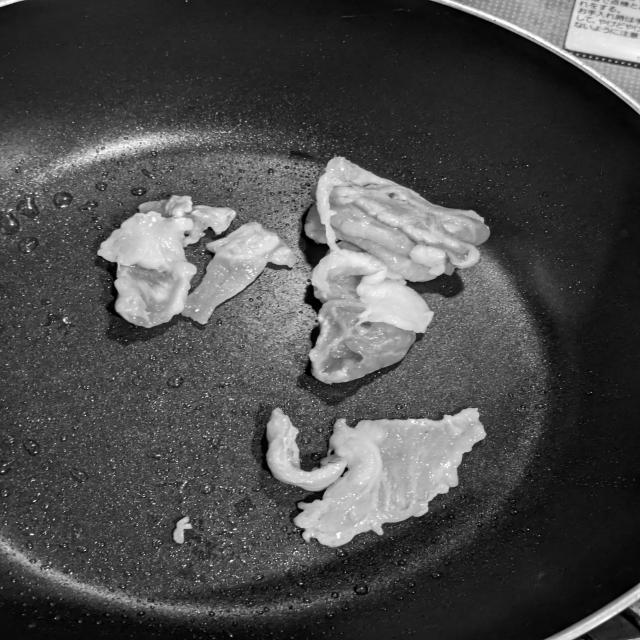NG undercooked pork,: (297, 153, 502, 390), (265, 397, 494, 558), (88, 188, 309, 329)
